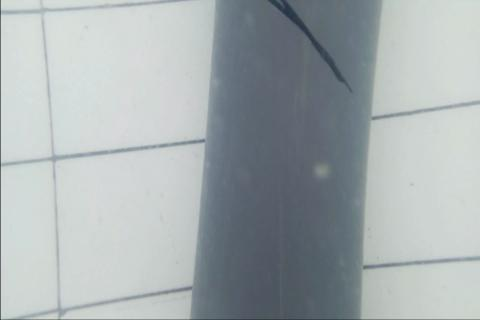keretakan: (266, 0, 356, 97)
